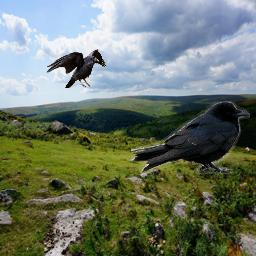Crow: (131, 101, 250, 174), (46, 49, 107, 88)
